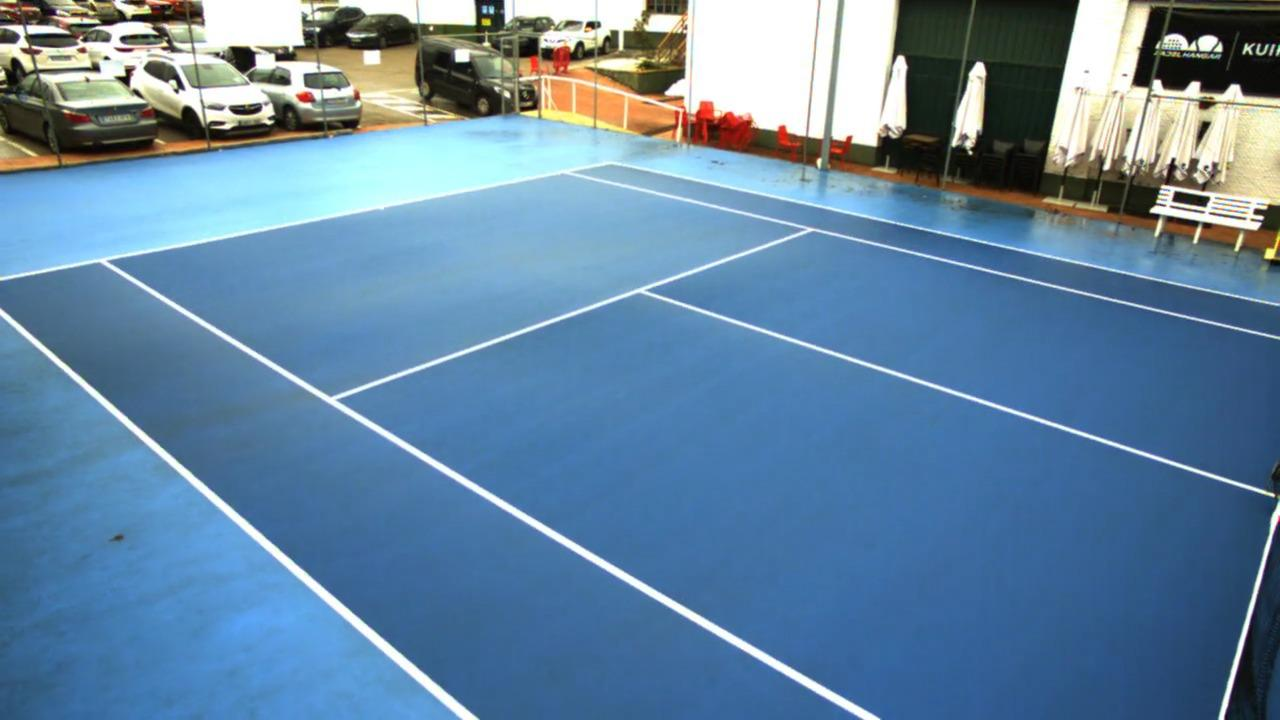cancha_tenis: (100, 168, 1280, 720)
point_f2: (552, 161, 582, 183)
point_fc1: (87, 248, 118, 271), (374, 201, 389, 214)
point_i1: (319, 383, 348, 416)
point_i2: (799, 220, 824, 241)
point_ic1: (630, 276, 659, 302)
